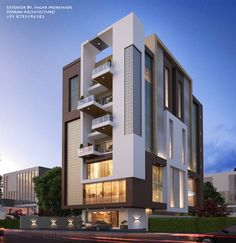Building House: (59, 17, 207, 233)
